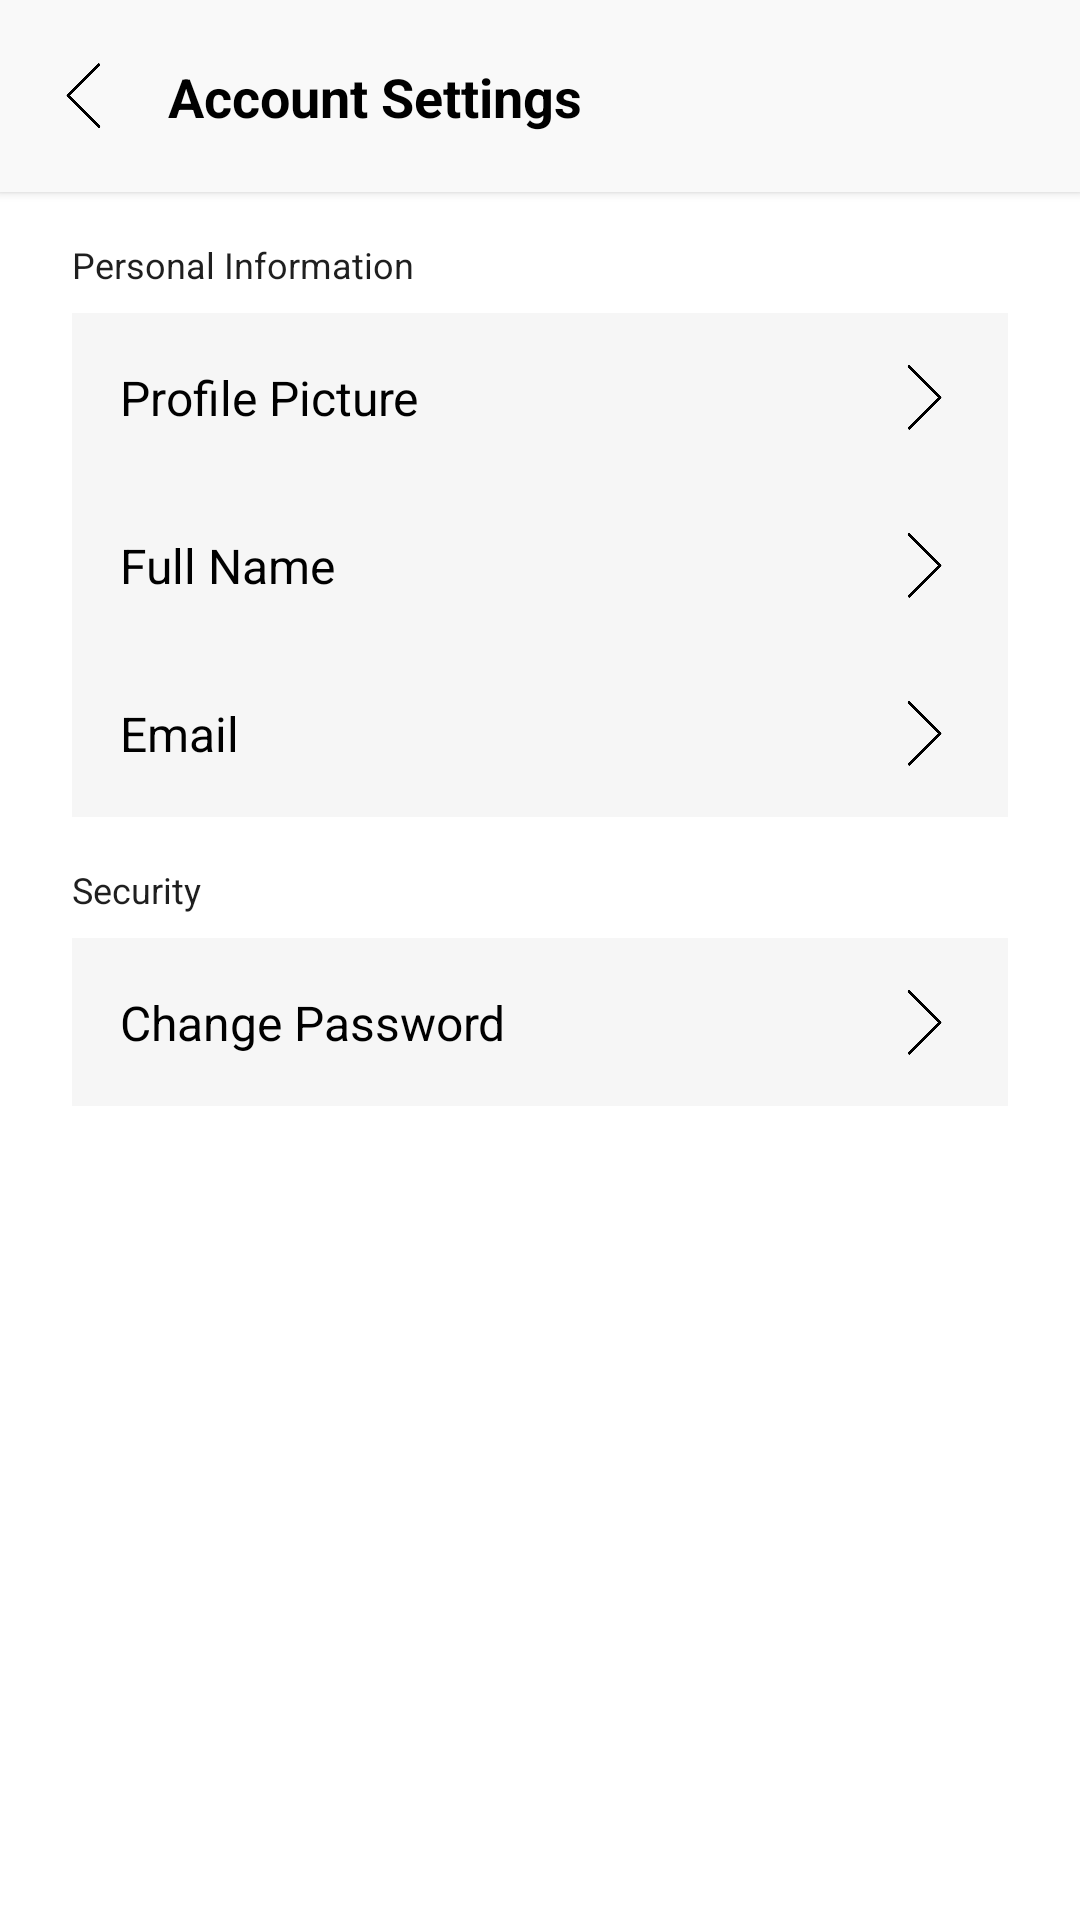

Icons on this 1080x1920 Android screen, each with its box as bbox(x1, y1, x2, y2):
Arrow Icon: bbox(908, 365, 942, 430), bbox(908, 533, 942, 598), bbox(908, 701, 942, 766), bbox(908, 990, 942, 1055)
Back: bbox(66, 63, 100, 128)
